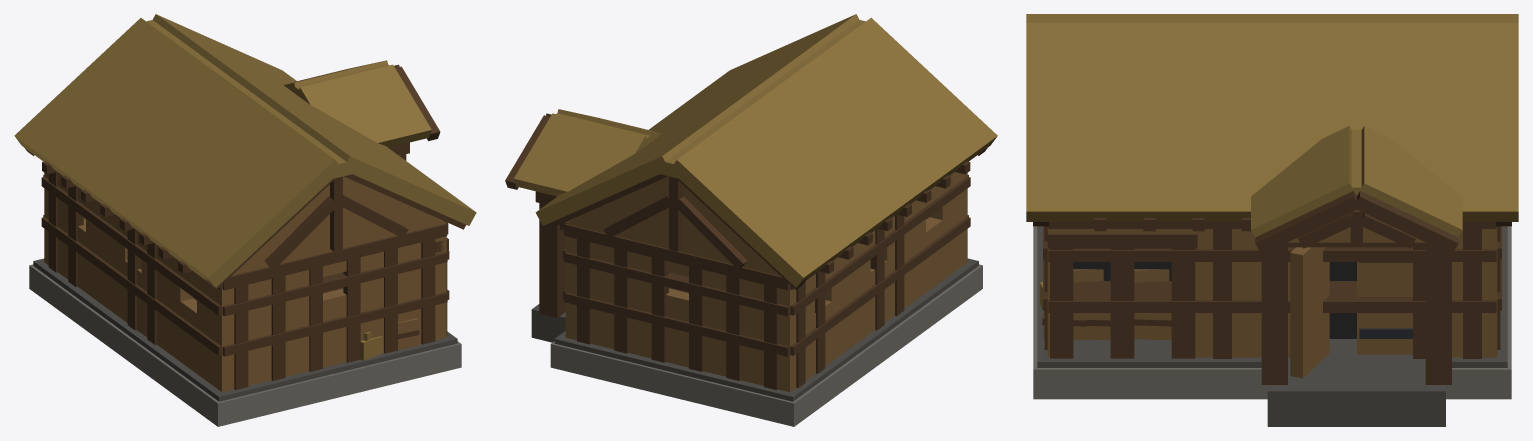
The model's file is storehouse.glb.
3 renders of one model, left to right at view 1: azimuth 30°, elevation 25°; view 2: azimuth 150°, elevation 25°; view 3: azimuth 270°, elevation 25°, orthographic. The views are drawn at different scales.
Parts seen in each view (by area): view 1: thatch, timber, timber_light, stone, stone_dark; view 2: thatch, timber, timber_light, stone, stone_dark; view 3: thatch, timber, timber_light, stone_dark, stone, soot, iron_dark.
Part boxes in pixels (bbox=[...]): thatch: bbox=[14, 14, 476, 360]; timber: bbox=[25, 64, 465, 389]; timber_light: bbox=[44, 172, 446, 392]; stone: bbox=[29, 264, 461, 426]; stone_dark: bbox=[33, 258, 457, 401]; thatch: bbox=[513, 14, 997, 287]; timber: bbox=[505, 113, 987, 389]; timber_light: bbox=[565, 172, 967, 392]; stone: bbox=[550, 264, 982, 426]; stone_dark: bbox=[531, 258, 978, 401]; thatch: bbox=[1026, 14, 1518, 311]; timber: bbox=[1033, 191, 1511, 384]; timber_light: bbox=[1043, 226, 1497, 378]; stone_dark: bbox=[1037, 226, 1507, 426]; stone: bbox=[1033, 226, 1511, 399]; soot: bbox=[1073, 262, 1356, 338]; iron_dark: bbox=[1359, 262, 1412, 338].
Size of the model in its own units: 101 by 71.91 by 105.
